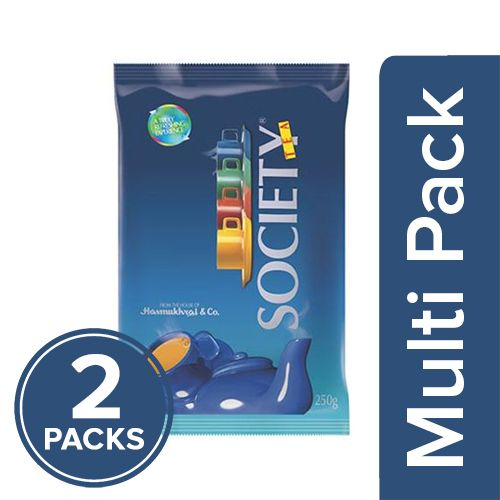society: (110, 64, 350, 436)
